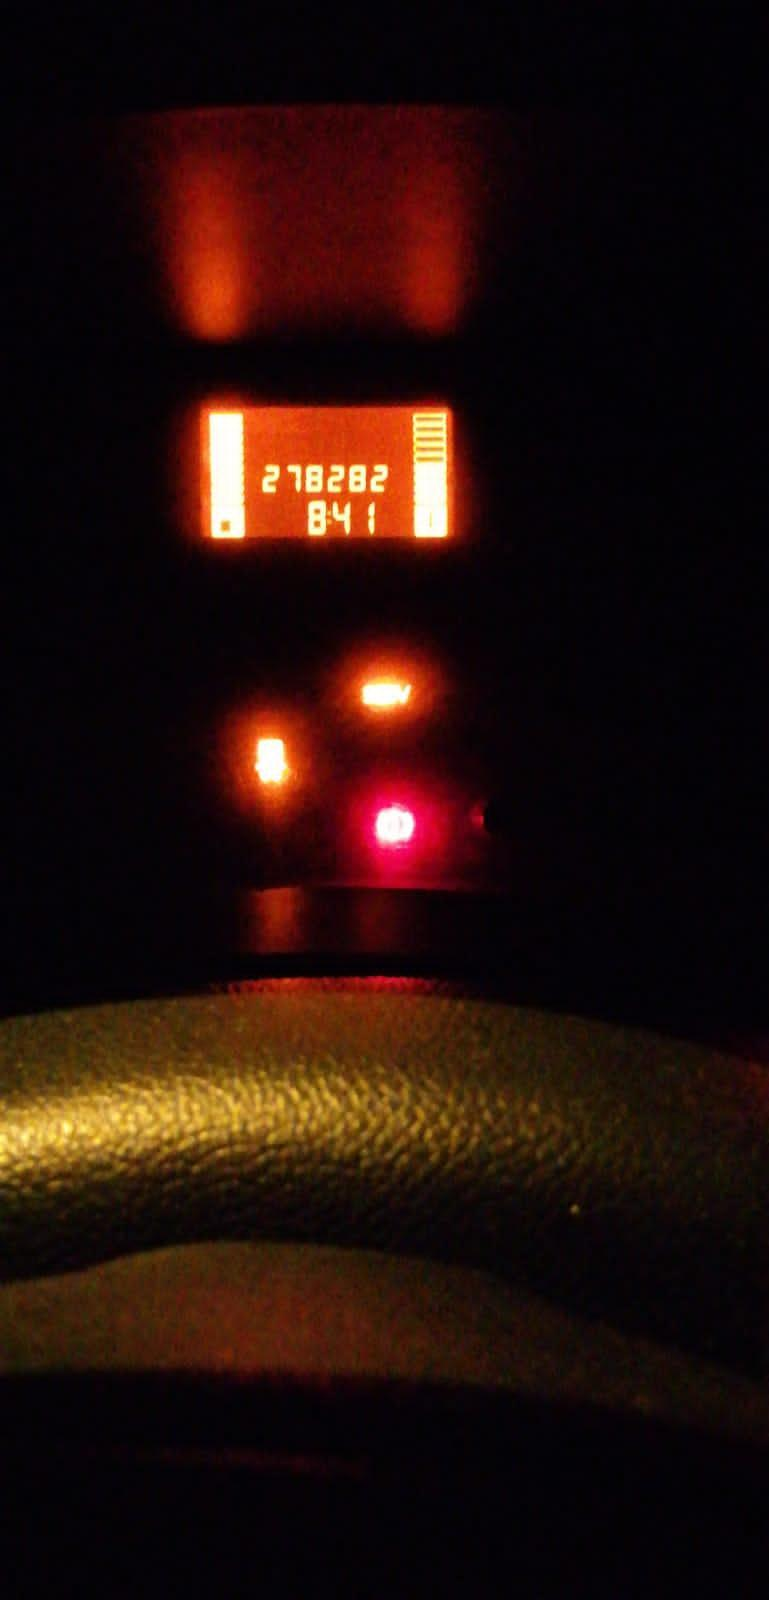1: (365, 500, 376, 537)
2: (259, 462, 281, 494), (369, 463, 389, 494), (326, 463, 345, 494)
4: (331, 499, 352, 537)
7: (285, 463, 302, 494)
8: (305, 499, 327, 537), (304, 463, 323, 494), (348, 463, 367, 493)
X: (326, 509, 334, 526)
odometer: (186, 393, 466, 550)
